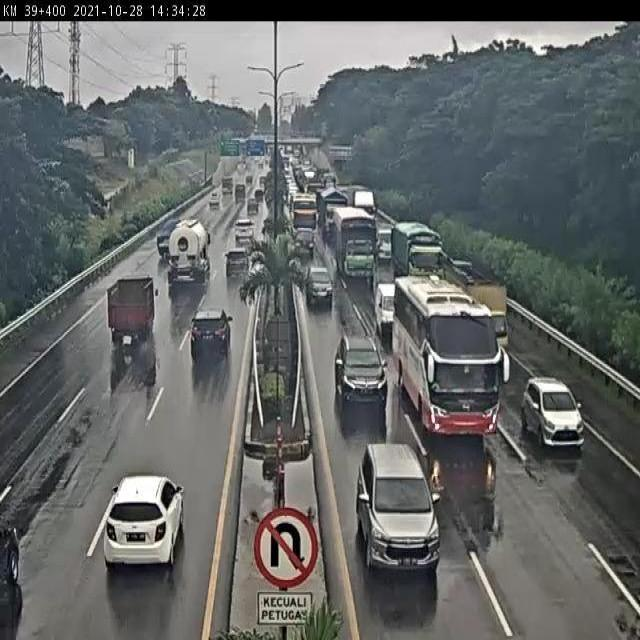big bus: (391, 272, 502, 432)
big truck: (390, 224, 445, 297), (334, 205, 381, 284), (169, 221, 210, 288)
car: (355, 442, 439, 574), (105, 477, 184, 571), (521, 379, 585, 452), (332, 337, 387, 415), (192, 309, 235, 363), (298, 261, 334, 311), (370, 276, 398, 339), (222, 254, 247, 294), (291, 225, 317, 260), (231, 220, 255, 249)
small truck: (106, 278, 159, 350), (464, 275, 502, 365)
